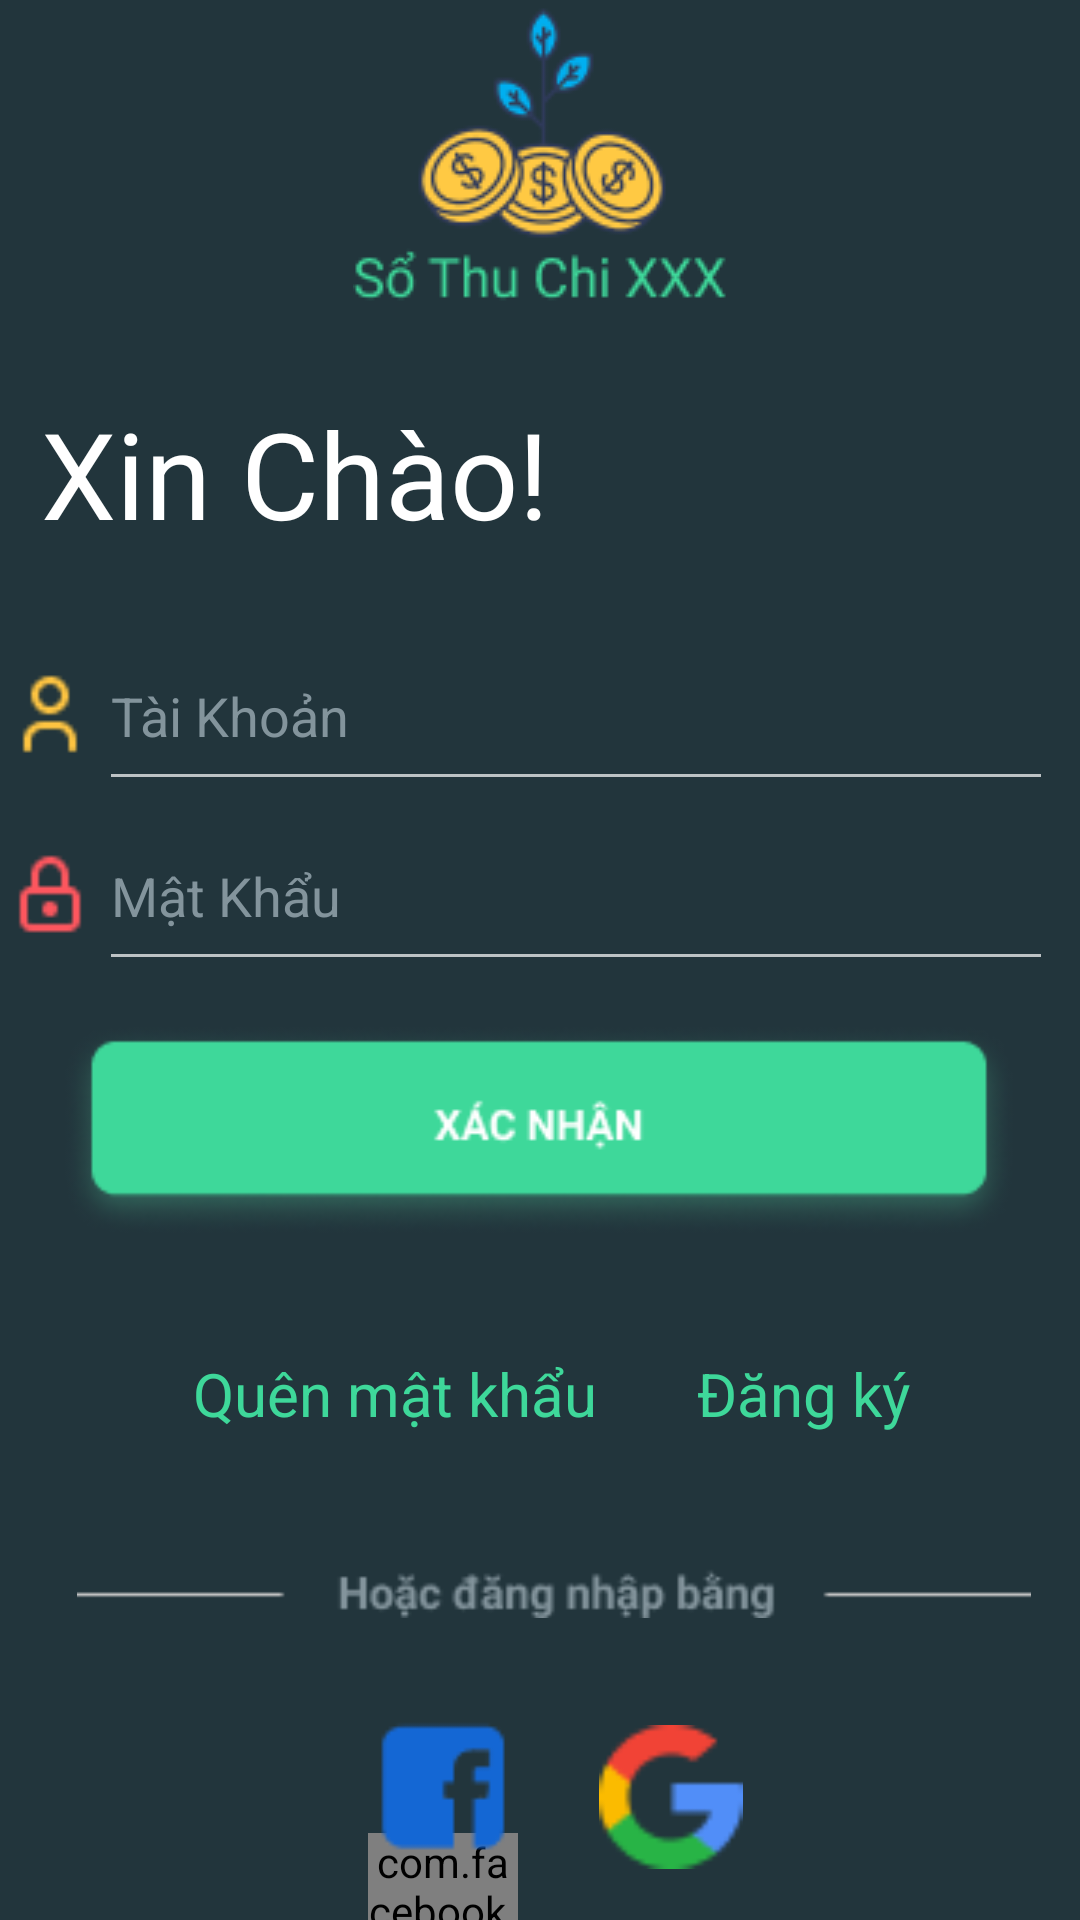

Icons on this 1080 × 1920 Android screen, each with the point to tap as (x=x, y=y):
iconpass: (x=50, y=894)
profiledangnhap: (x=50, y=714)
